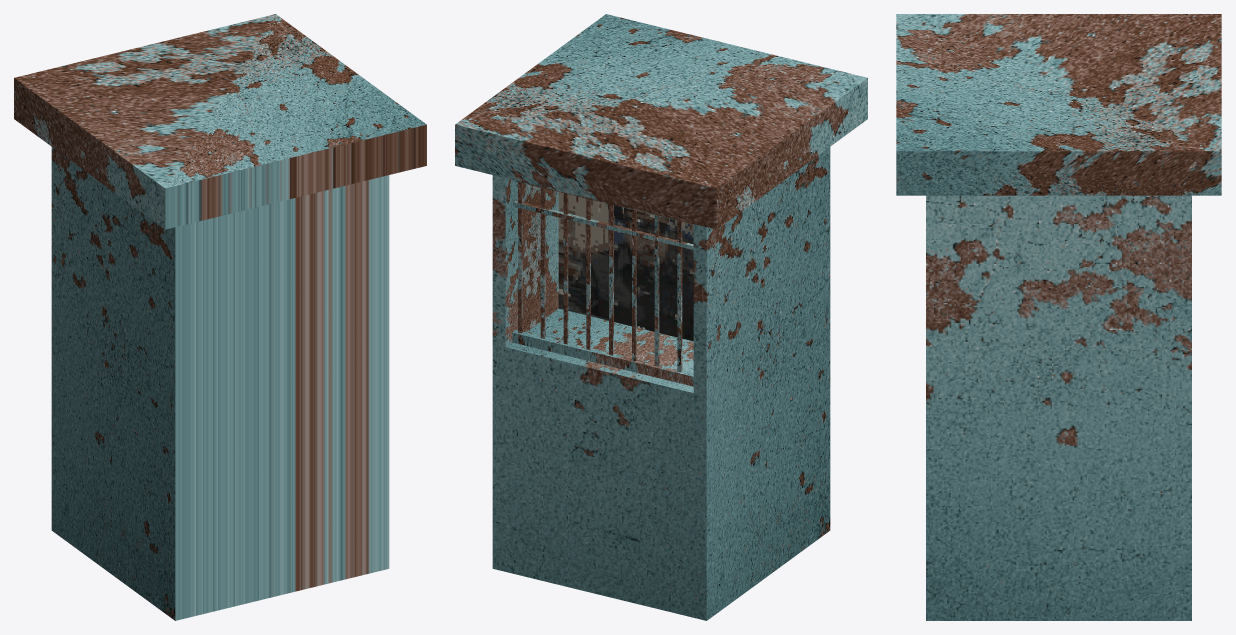
The model's file is Bydka.fbx.
3 views of the same model, side by side, from view 1: azimuth 30°, elevation 25°; view 2: azimuth 150°, elevation 25°; view 3: azimuth 270°, elevation 25° (orthographic). The views are drawn at different scales.
Parts seen in each view (by area): view 1: Bydka; view 2: Bydka, Bydka.001; view 3: Bydka.
Part boxes in pixels (left/top/right/bottom): Bydka: left=14, top=14, right=426, bottom=620; Bydka: left=455, top=14, right=867, bottom=620; Bydka.001: left=558, top=192, right=693, bottom=341; Bydka: left=896, top=14, right=1221, bottom=620.
Size of the model in its own units: 178 by 291 by 178.
